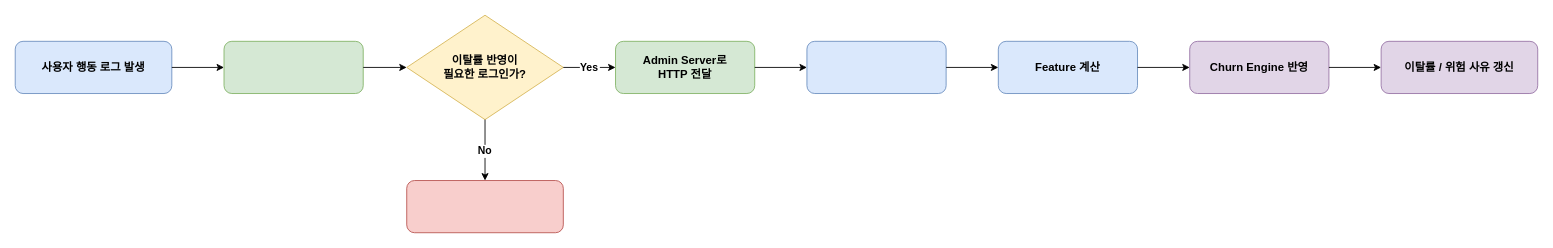
Some shapes in this 1553 by 248 pixel diagram are drawn without their labels. The shapes that lost their labels are listed below. From the top down, each one's centre as x and y in pixels, then its label:
(x=293, y=67): Customer Server
(x=876, y=67): 행동 로그 저장
(x=484, y=206): 무시 또는 일반 로그 처리
